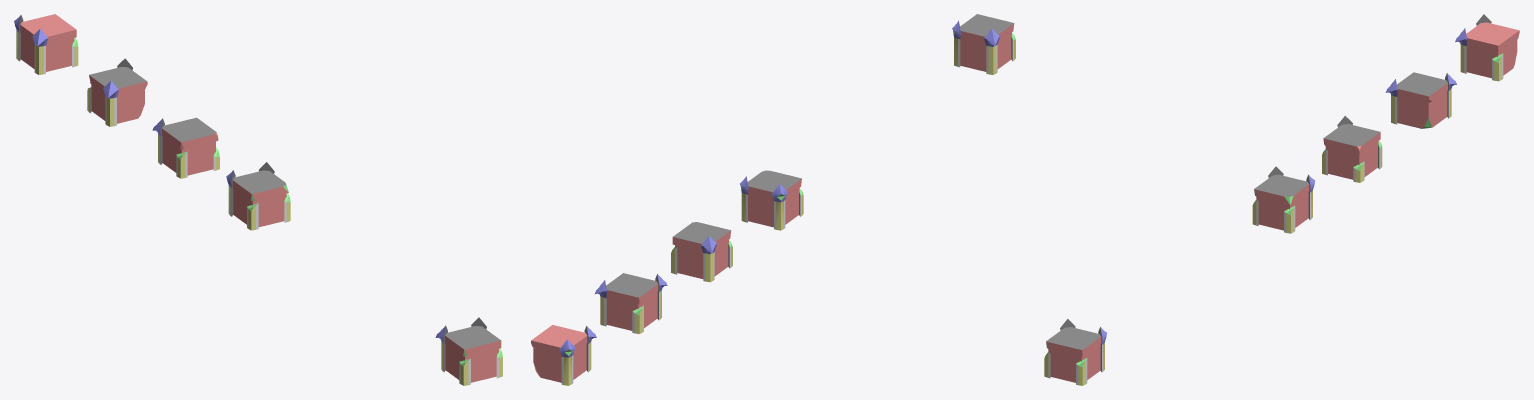
File: SSQ_BRoom_pillar04.gltf
3 views of the same model, side by side, from view 1: azimuth 30°, elevation 25°; view 2: azimuth 150°, elevation 25°; view 3: azimuth 330°, elevation 25° (orthographic). The views are drawn at different scales.
Visible parts, largest first — view 1: SSQ_BRoom_pillar04; view 2: SSQ_BRoom_pillar04; view 3: SSQ_BRoom_pillar04.
Part boxes in pixels (x1,y1,x2,y2): SSQ_BRoom_pillar04: (14,14,502,385); SSQ_BRoom_pillar04: (531,14,1015,385); SSQ_BRoom_pillar04: (1044,14,1519,385).
Bounding box in the file's own units: 0.9692 × 0.8923 × 16.25.
